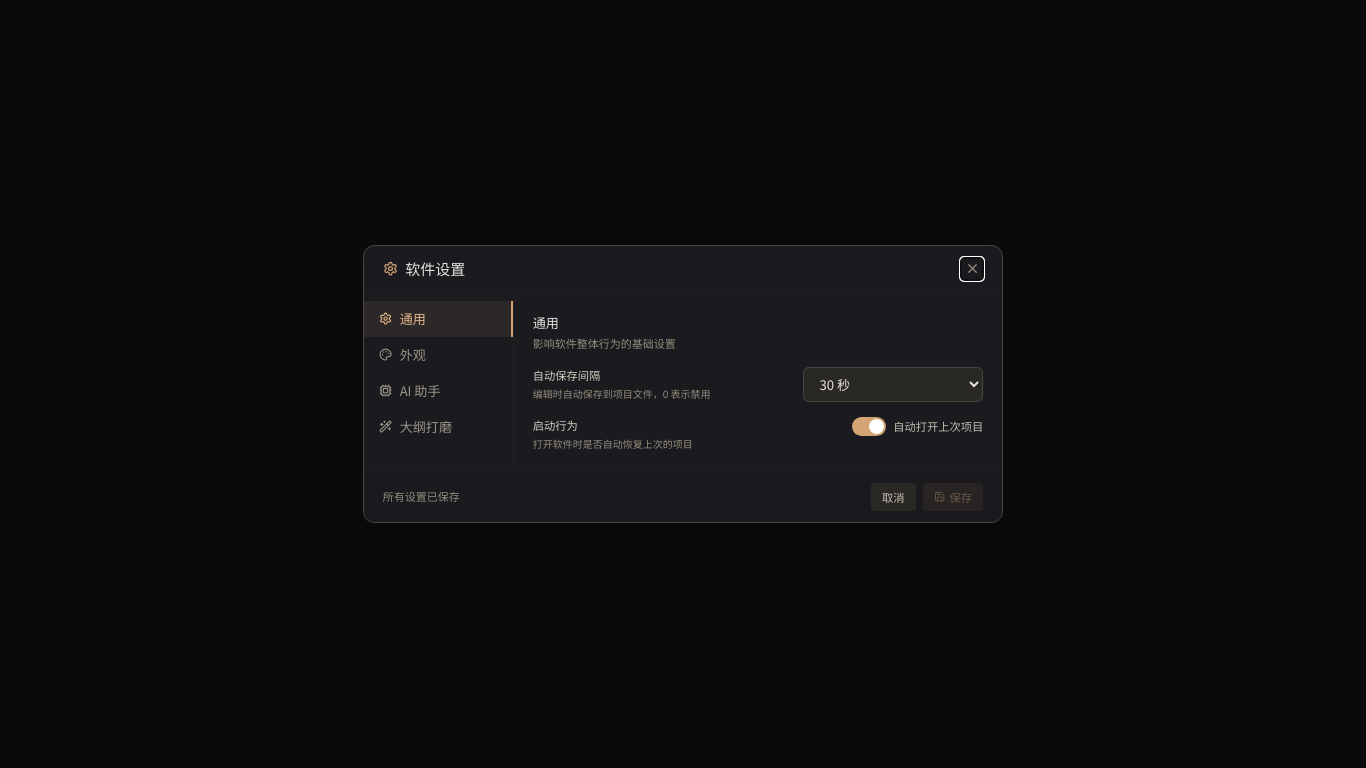
SettingsModal › 点击"AI 助手"切换 section
This screenshot has width=1366, height=768.
Click the button "AI 助手": (438, 391) top-left (364, 373), bottom-right (513, 409)
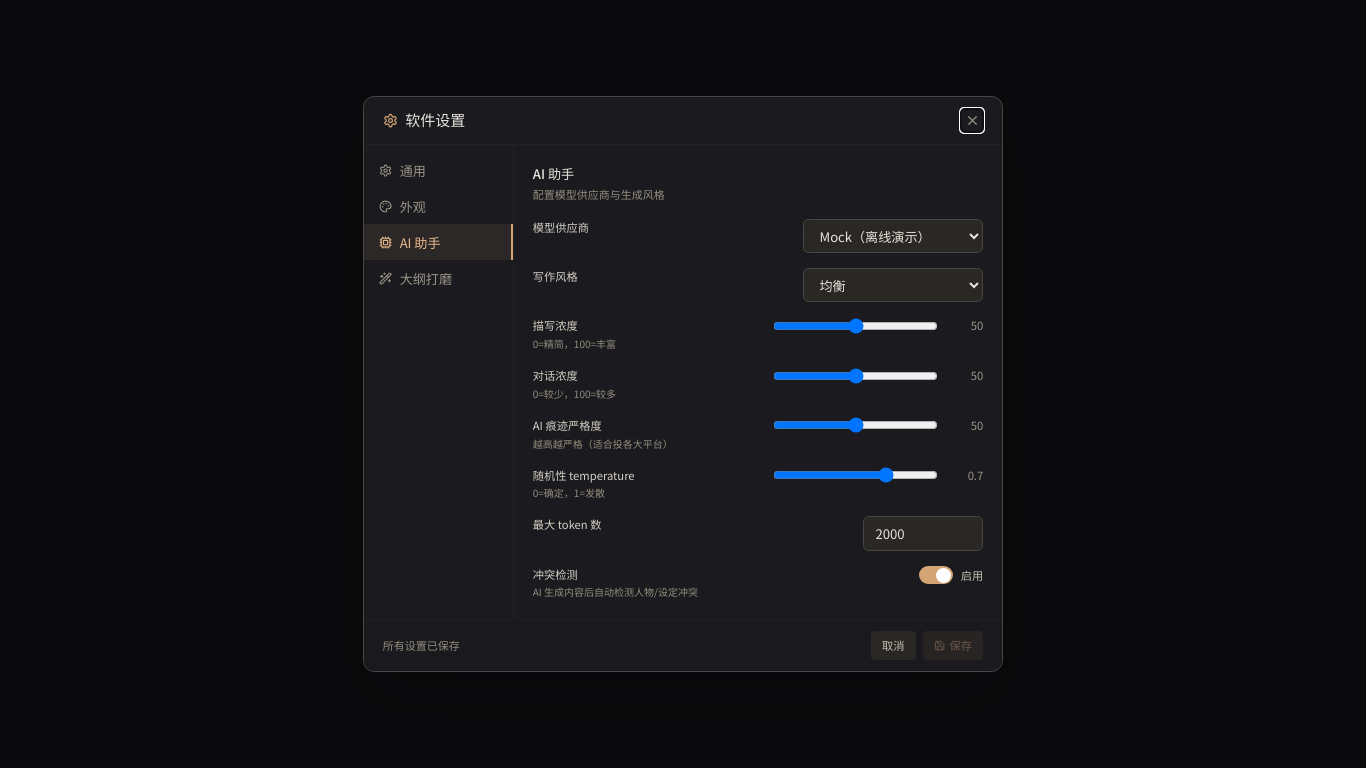
Now the text "配置模型供应商与生成风格" is shown, box top-left (533, 186), bottom-right (665, 202)
